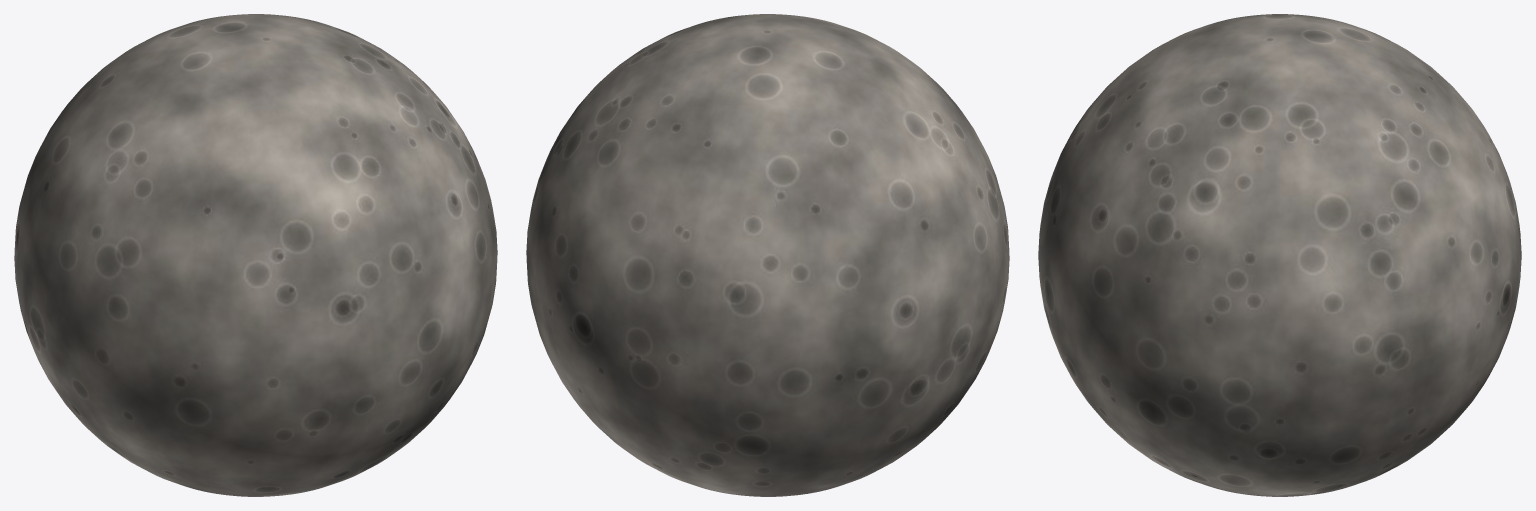
Rendered from mercury.glb.
The picture shows the model from 3 angles, left to right: view 1: azimuth 30°, elevation 25°; view 2: azimuth 150°, elevation 25°; view 3: azimuth 270°, elevation 25°; orthographic projection.
Parts seen in each view (by area): view 1: mercury; view 2: mercury; view 3: mercury.
Boxes of the visible parts, x1,y1,x2,y2 form: mercury: (14, 14, 497, 496); mercury: (526, 14, 1009, 496); mercury: (1038, 14, 1521, 496).
Bounding box in the file's own units: 2 × 2 × 2.
1 material, 1 textured.
